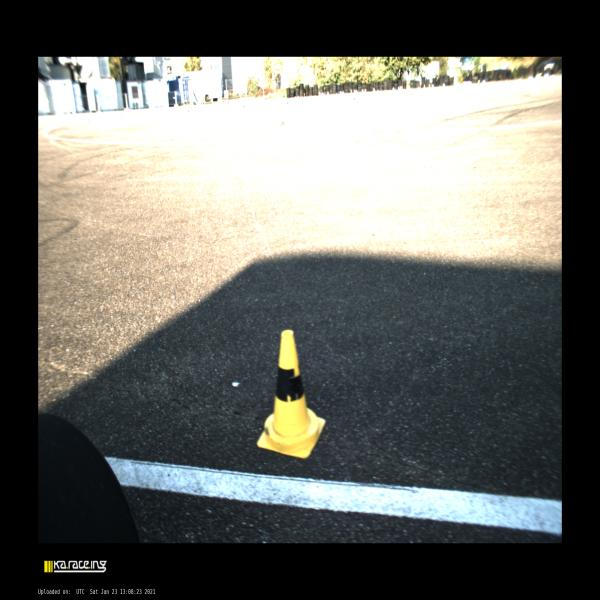yellow_cone: (257, 330, 325, 458)
